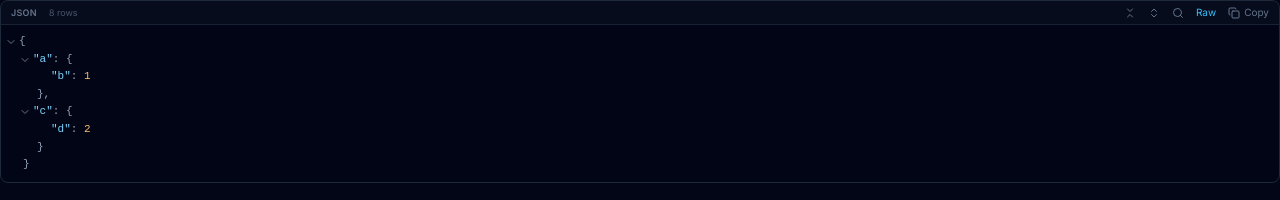
ValueView: a JSON value › folds and unfolds everything from the header
This screenshot has width=1280, height=200.
Step 1. Click the button titled "Fold everything" → [1130, 12], box [1124,6,1136,18]
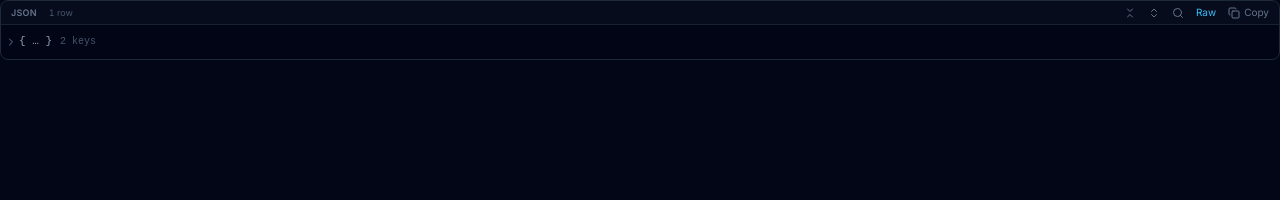
Now the text "b" is gone
Step 2. Click the button titled "Unfold everything" → [1154, 12], box [1148,6,1160,18]
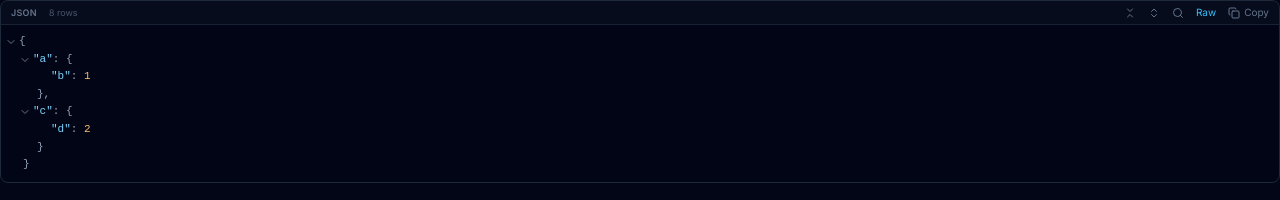
Now the text "b" is shown, box [58,70,64,82]
